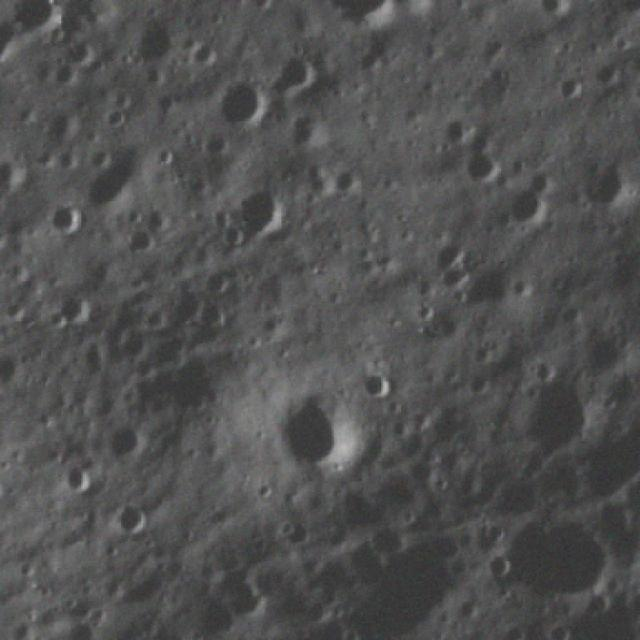crater: (493, 512, 630, 610), (273, 383, 382, 477), (511, 374, 600, 460), (82, 140, 158, 220), (223, 182, 297, 247), (425, 230, 484, 304), (270, 41, 338, 102), (571, 325, 638, 386), (573, 162, 638, 220), (117, 18, 186, 68), (214, 78, 274, 131), (496, 184, 559, 228), (117, 218, 171, 268), (365, 517, 418, 566), (40, 200, 92, 248), (104, 497, 164, 538), (323, 0, 394, 34), (53, 286, 104, 332), (106, 419, 151, 468), (457, 147, 508, 190), (288, 111, 338, 151), (363, 360, 399, 403), (0, 346, 31, 389), (536, 0, 581, 17)
